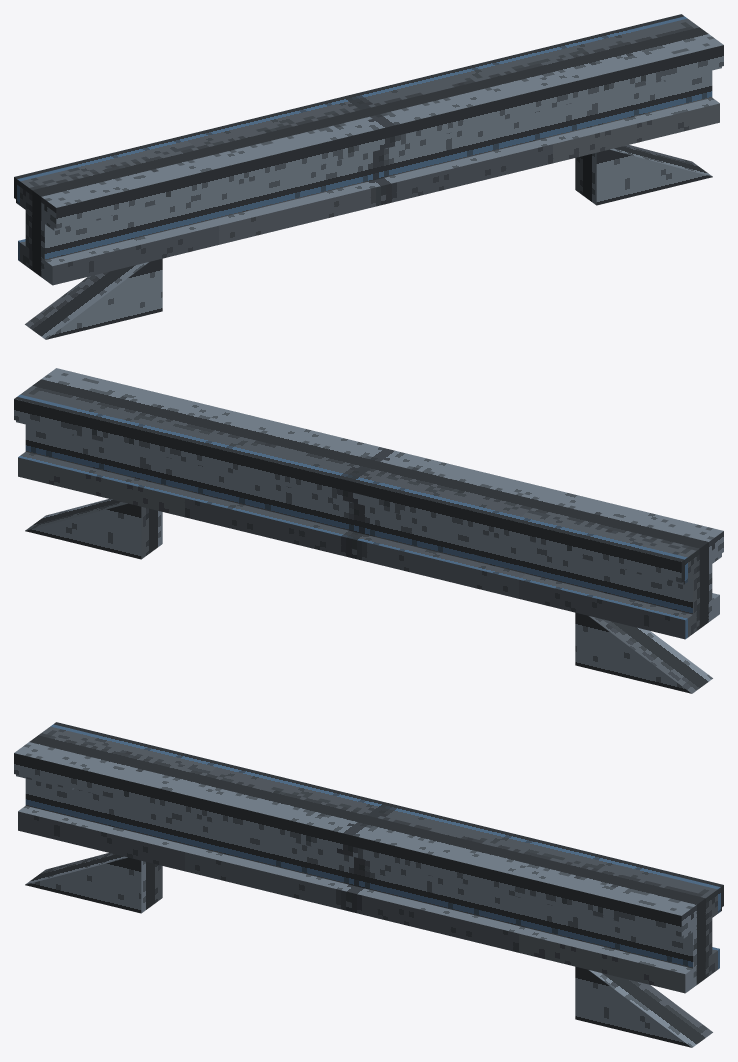
Rendered from arch_beam_span.glb.
3 views of the same model, one above another, from view 1: azimuth 30°, elevation 25°; view 2: azimuth 150°, elevation 25°; view 3: azimuth 330°, elevation 25° (orthographic).
Visible parts, largest first — view 1: arch_beam_span; view 2: arch_beam_span; view 3: arch_beam_span.
Part boxes in pixels (x1,y1,x2,y2): arch_beam_span: (14,14,723,339); arch_beam_span: (14,368,723,693); arch_beam_span: (14,722,723,1047).
Size of the model in its own units: 4 by 0.8 by 0.44.
Materials: 1 (1 with a texture image).
